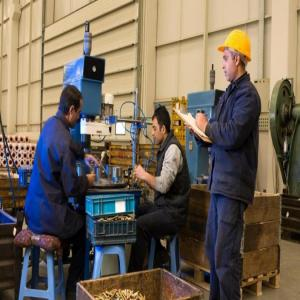none: (59, 85, 85, 131), (152, 106, 172, 146)
yellow: (221, 28, 253, 84)
